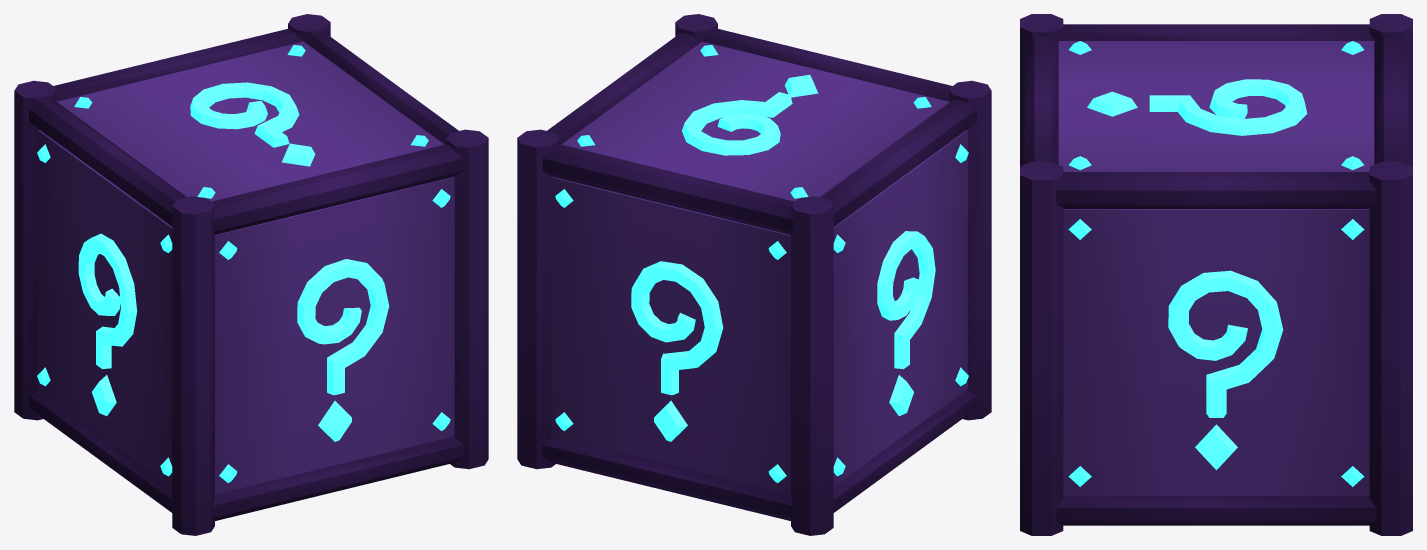
Rendered from box_mystery.glb.
The picture shows the model from 3 angles, left to right: view 1: azimuth 30°, elevation 25°; view 2: azimuth 150°, elevation 25°; view 3: azimuth 270°, elevation 25°; orthographic projection. The views are drawn at different scales.
Parts seen in each view (by area): view 1: box_mystery; view 2: box_mystery; view 3: box_mystery.
Boxes of the visible parts, x1,y1,x2,y2 form: box_mystery: (14, 14, 488, 535); box_mystery: (517, 14, 991, 535); box_mystery: (1020, 14, 1412, 535).
Size of the model in its own units: 1 by 1 by 1.
